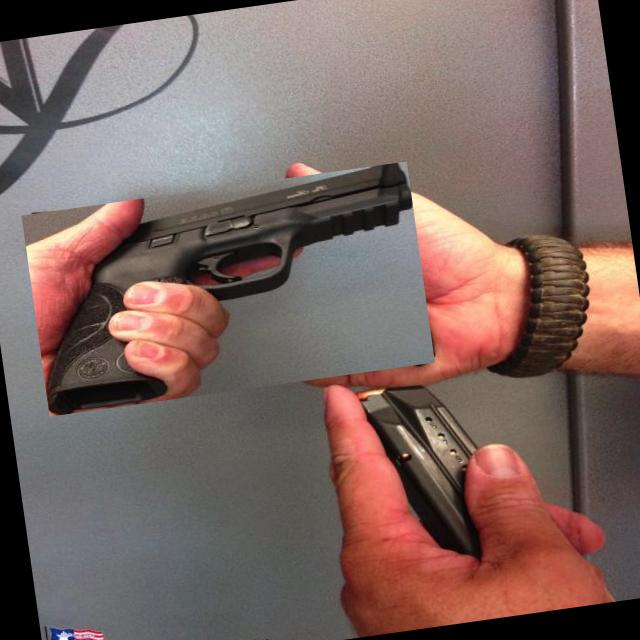Gun: (49, 164, 413, 414)
